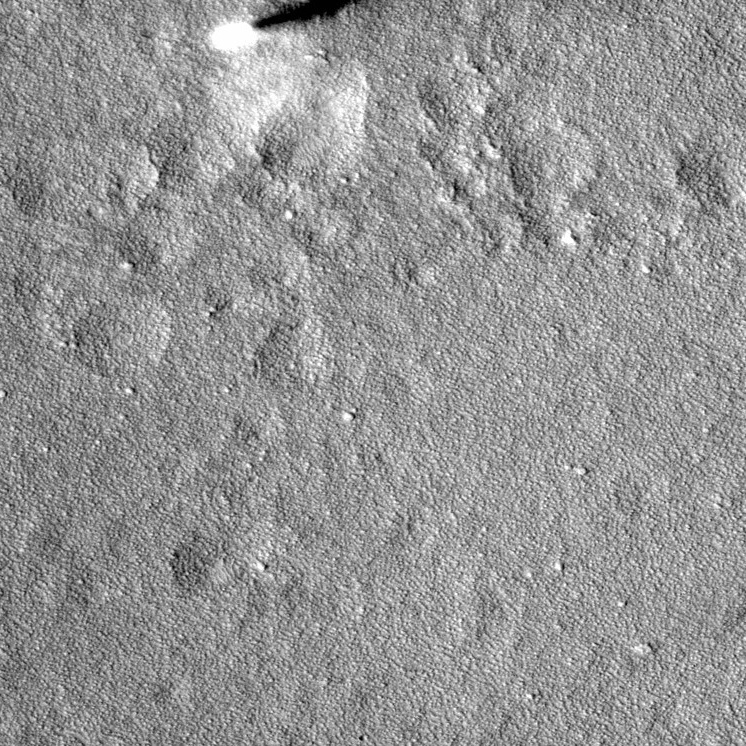dust_devil: (208, 1, 370, 55)
